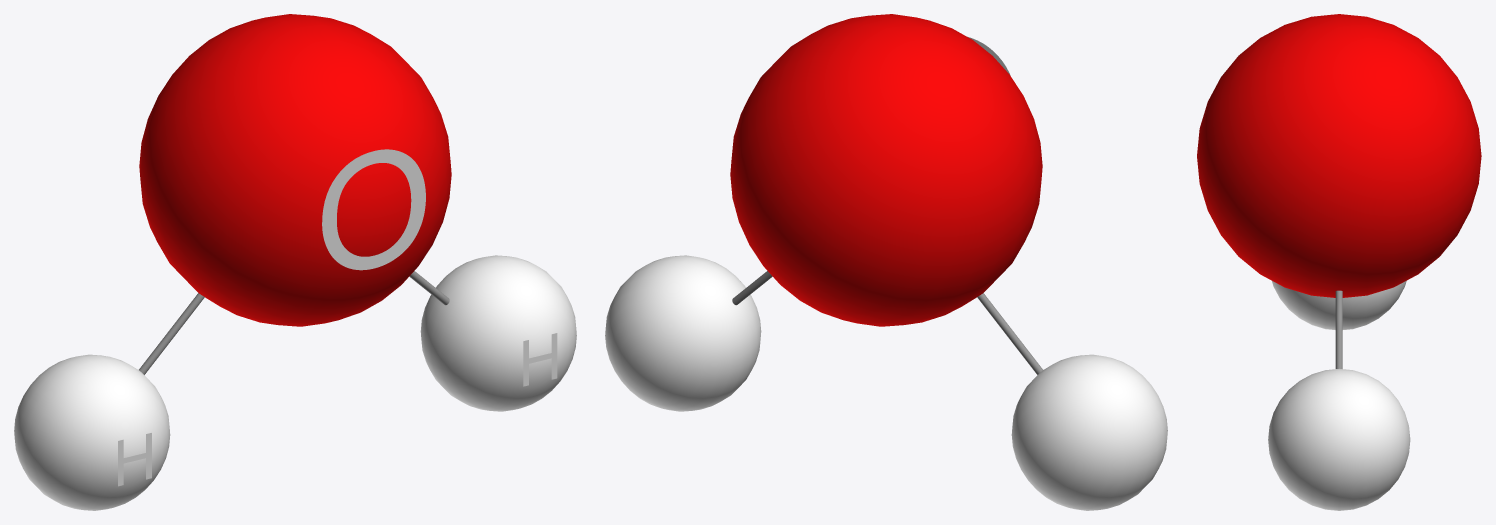
The picture shows the model from 3 angles, left to right: view 1: azimuth 30°, elevation 25°; view 2: azimuth 150°, elevation 25°; view 3: azimuth 270°, elevation 25°; orthographic projection. The views are drawn at different scales.
Parts seen in each view (by area): view 1: Sphere002, Sphere003, Sphere001, Text002, Cylinder001, Text001, Text003; view 2: Sphere002, Sphere003, Sphere001, Cylinder001; view 3: Sphere002, Sphere001, Sphere003, Cylinder002.
Part boxes in pixels (x1,y1,x2,y2): Sphere002: (139,14,451,326); Sphere003: (14,354,170,510); Sphere001: (420,255,576,411); Text002: (322,149,425,270); Cylinder001: (139,293,204,374); Text001: (523,333,557,386); Text003: (118,433,151,486); Sphere002: (730,14,1042,326); Sphere003: (1011,354,1167,510); Sphere001: (605,255,761,411); Cylinder001: (977,293,1042,374); Sphere002: (1197,14,1481,297); Sphere001: (1268,369,1410,510); Sphere003: (1272,281,1406,329); Cylinder002: (1335,290,1342,368).
Size of the model in its own units: 160 by 120 by 80.14.
